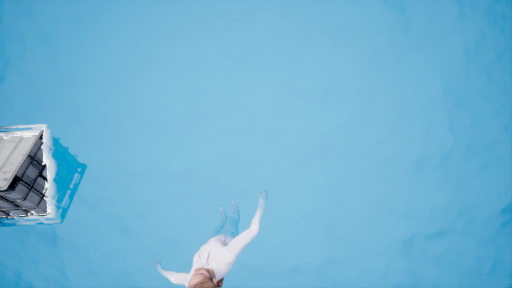person: (159, 188, 275, 286)
